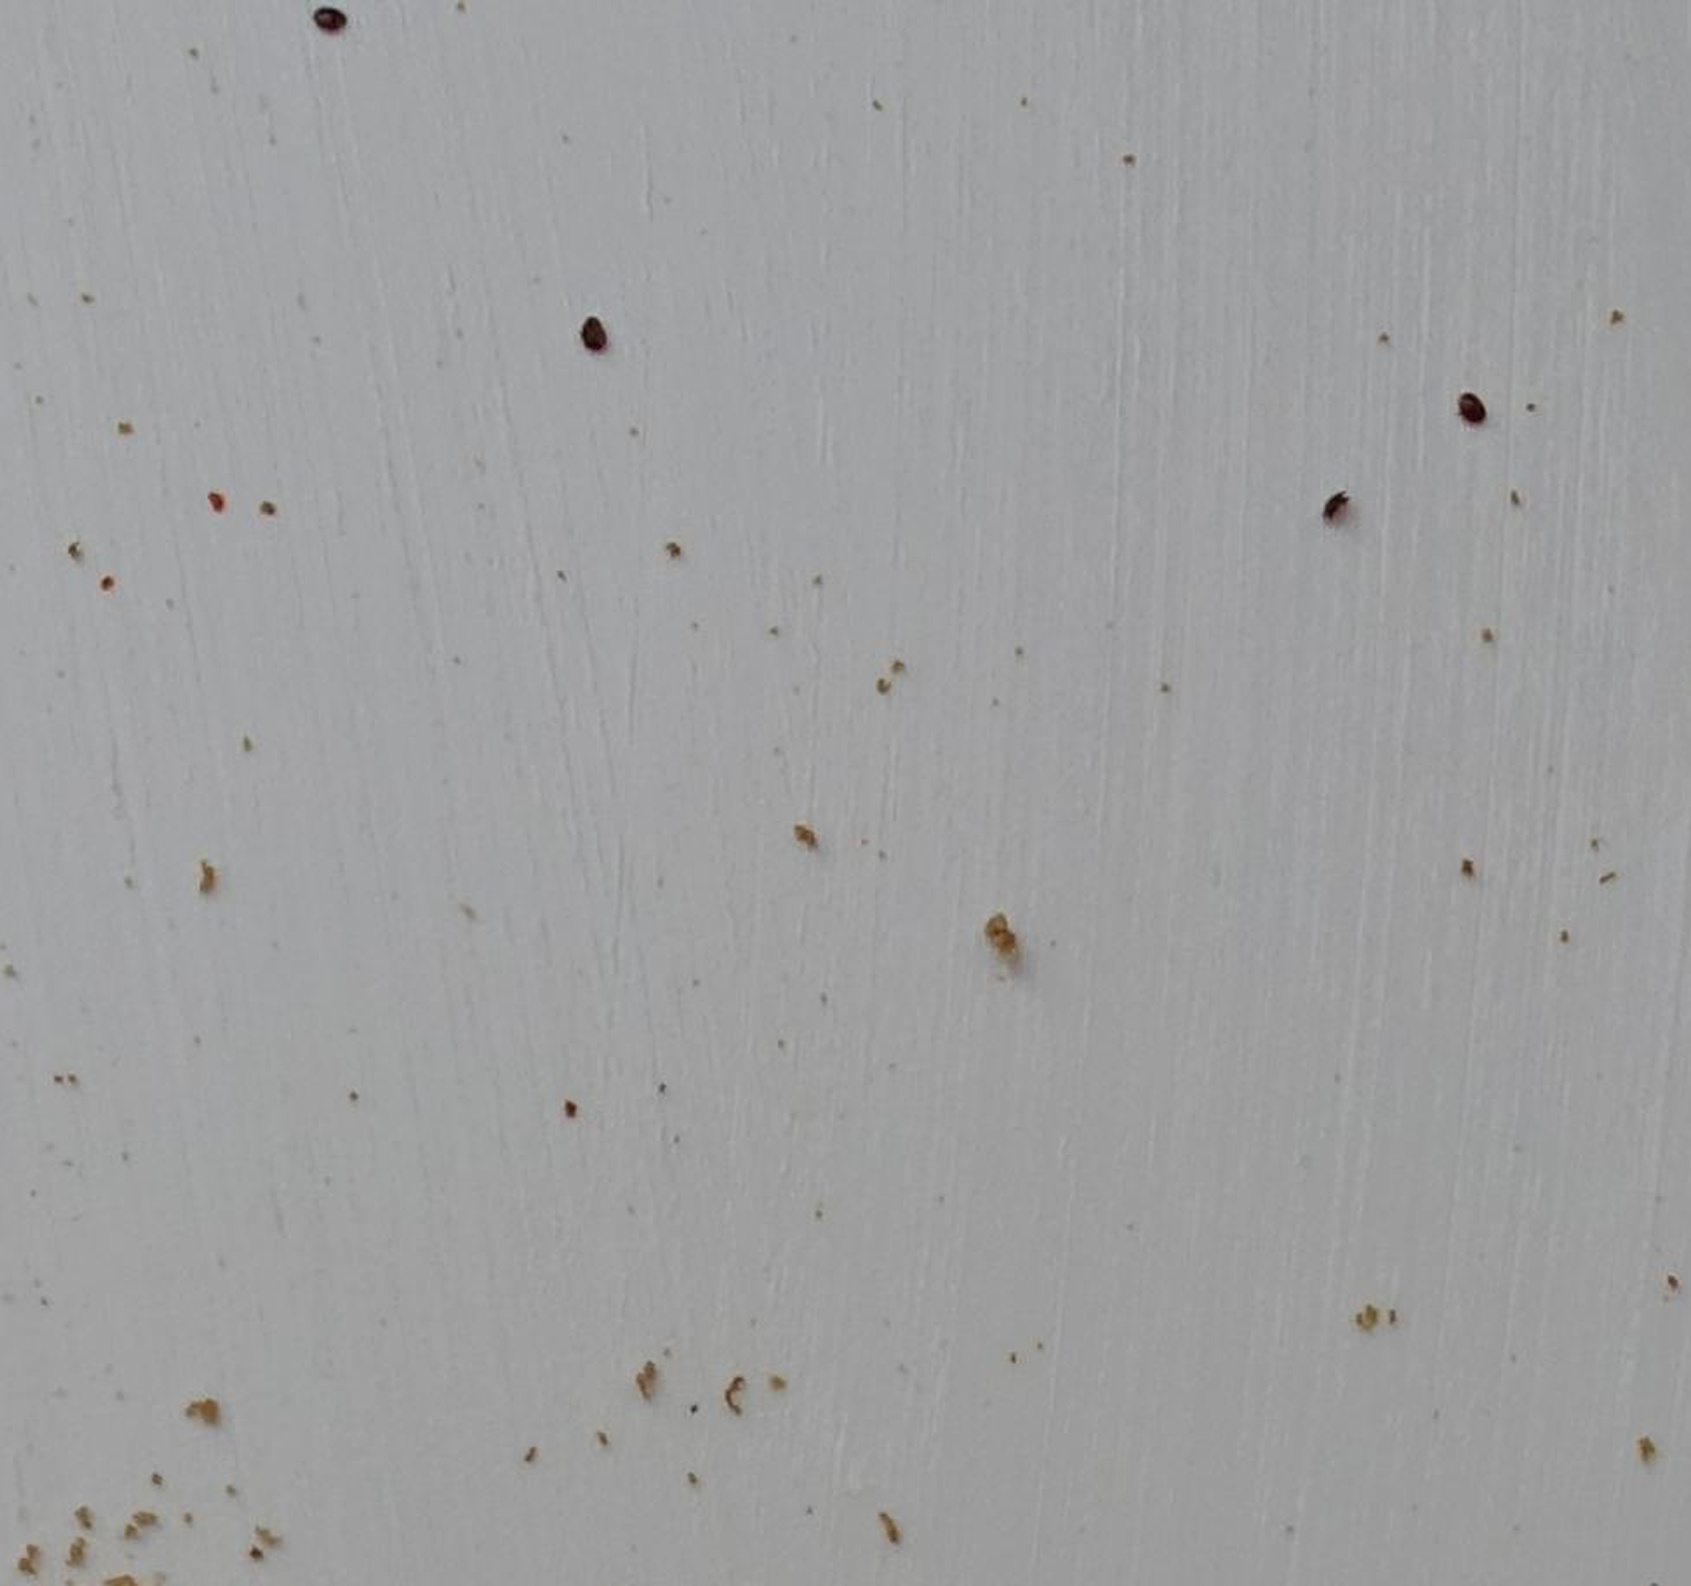Varroa: (1311, 483, 1357, 528), (580, 325, 608, 353), (315, 10, 341, 37), (1460, 394, 1487, 420)
